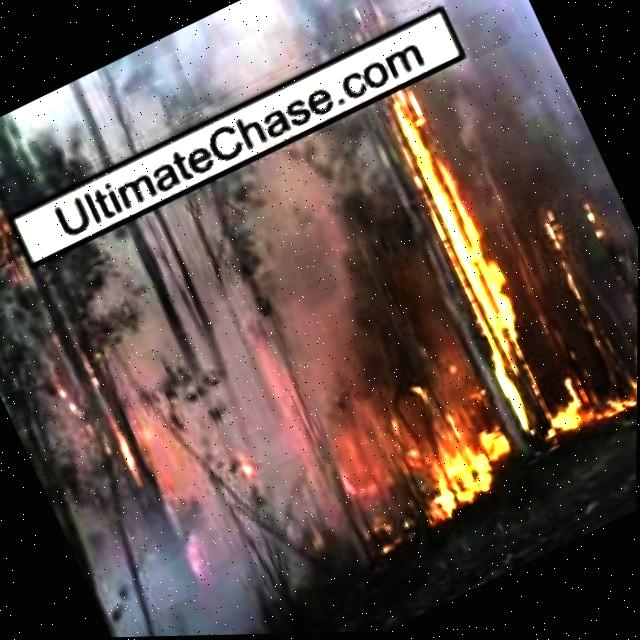Fire: (369, 54, 596, 450), (371, 375, 527, 540), (100, 396, 202, 531), (0, 193, 44, 283), (603, 355, 638, 419)
Smoke: (0, 117, 536, 640), (7, 0, 513, 195)
